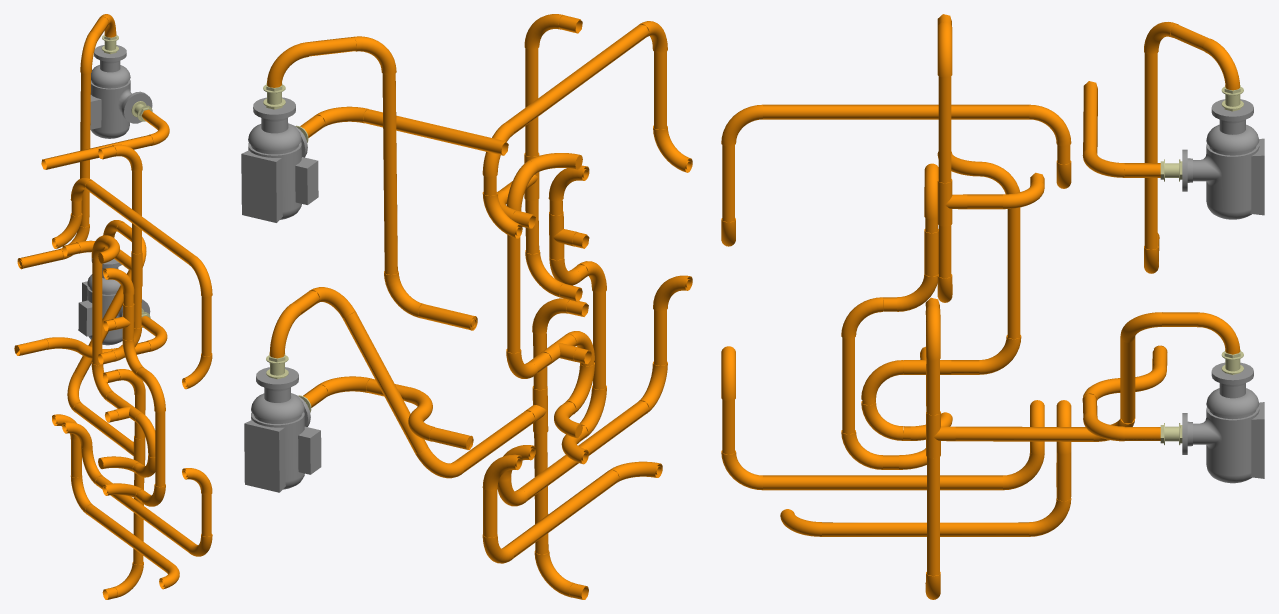
The model's file is system_back.obj.
The picture shows the model from 3 angles, left to right: view 1: azimuth 30°, elevation 25°; view 2: azimuth 150°, elevation 25°; view 3: azimuth 270°, elevation 25°; orthographic projection. The views are drawn at different scales.
Parts seen in each view (by area): view 1: piping_backside, pump80_65_left, pump80_65_right; view 2: piping_backside, pump80_65_right, pump80_65_left; view 3: piping_backside, pump80_65_left, pump80_65_right.
Part boxes in pixels (box(x1,y1,x2,y2)): piping_backside: box(14, 14, 212, 599); pump80_65_left: box(90, 45, 152, 138); pump80_65_right: box(78, 258, 150, 345); piping_backside: box(263, 14, 692, 599); pump80_65_right: box(244, 367, 321, 492); pump80_65_left: box(241, 97, 318, 222); piping_backside: box(721, 14, 1243, 599); pump80_65_left: box(1182, 99, 1264, 219); pump80_65_right: box(1182, 362, 1264, 483).
Bounding box in the file's own units: 403 × 1284 × 1025.
